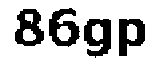6: (46, 3, 79, 54)
8: (11, 5, 46, 51)
g: (80, 17, 114, 60)
p: (118, 15, 147, 60)
